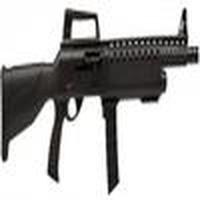gun: (1, 19, 197, 182)
